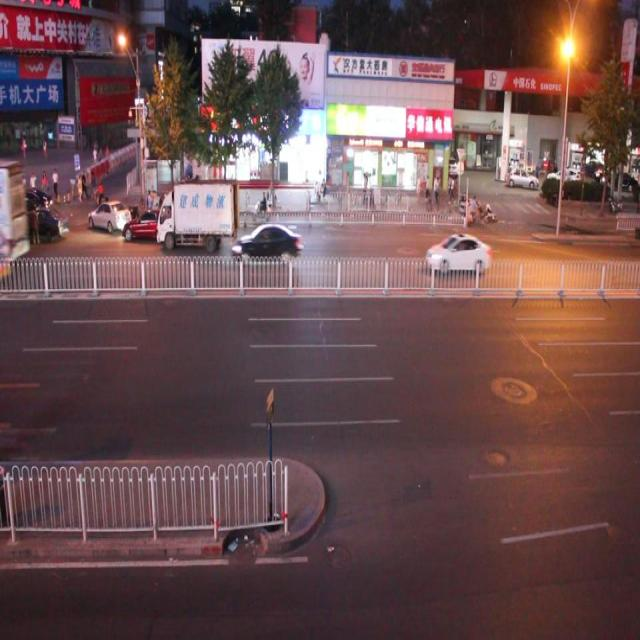bus: (153, 184, 240, 259)
car: (233, 223, 303, 269), (425, 230, 491, 274), (120, 210, 182, 251), (13, 204, 69, 248), (86, 200, 129, 242), (17, 184, 54, 220)
